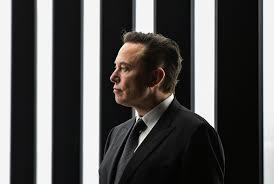Persons: (110, 27, 187, 116)
